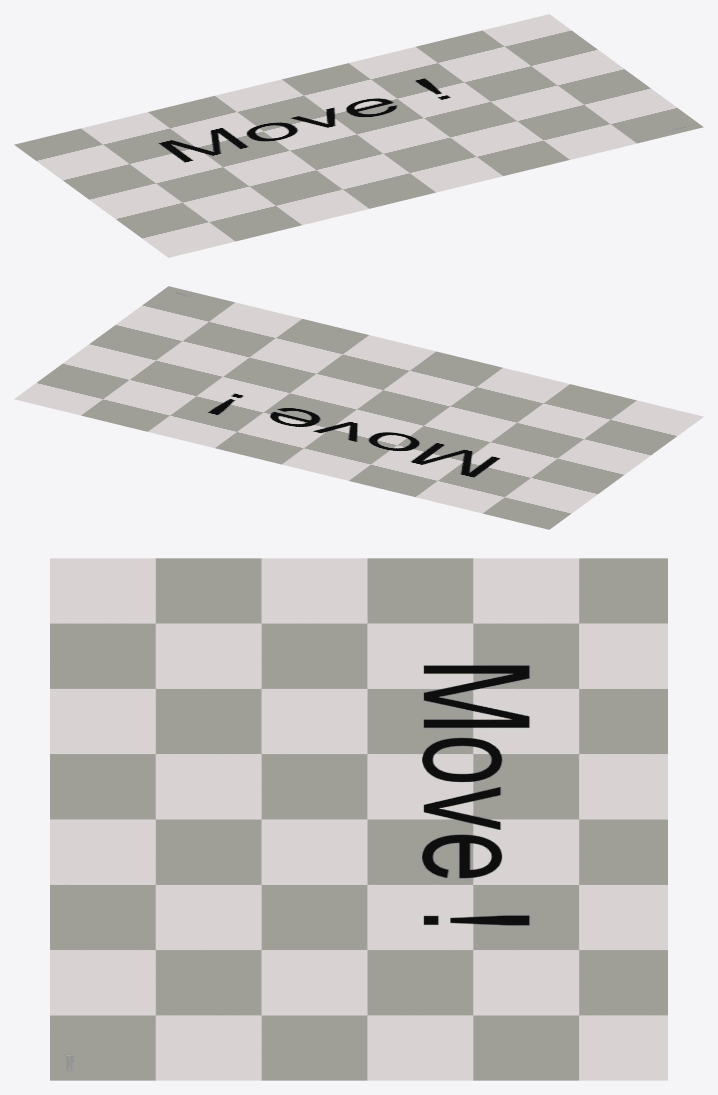
Rendered from 2-movement_message.obj.
The picture shows the model from 3 angles, top to bottom: view 1: azimuth 30°, elevation 25°; view 2: azimuth 150°, elevation 25°; view 3: azimuth 270°, elevation 25°; orthographic projection. The views are drawn at different scales.
Visible parts, largest first — view 1: 2-Movement Message; view 2: 2-Movement Message; view 3: 2-Movement Message.
Boxes of the visible parts, box(x1,y1,x2,y2) form: 2-Movement Message: box(14, 14, 703, 257); 2-Movement Message: box(14, 286, 703, 529); 2-Movement Message: box(50, 558, 667, 1080).
Bounding box in the file's own units: 2 × 0 × 1.
Materials: 1 (1 with a texture image).
